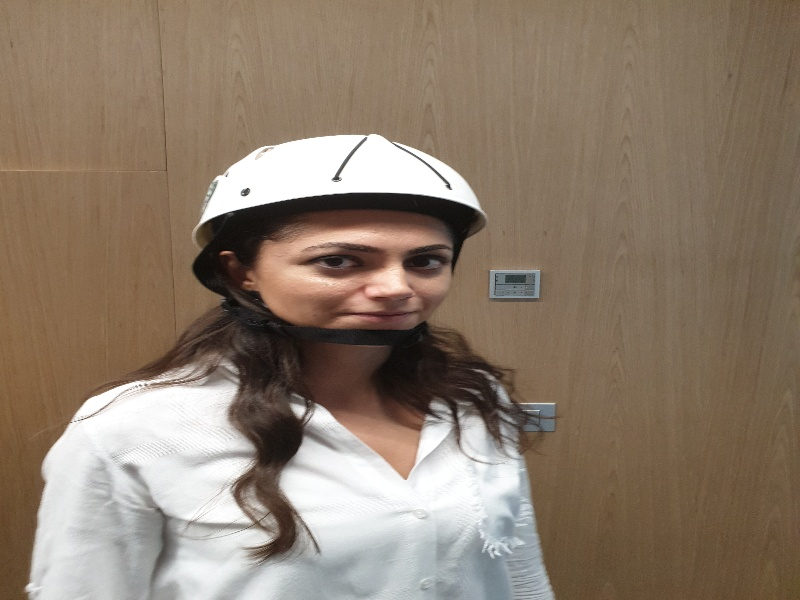Baret: (196, 136, 486, 223)
